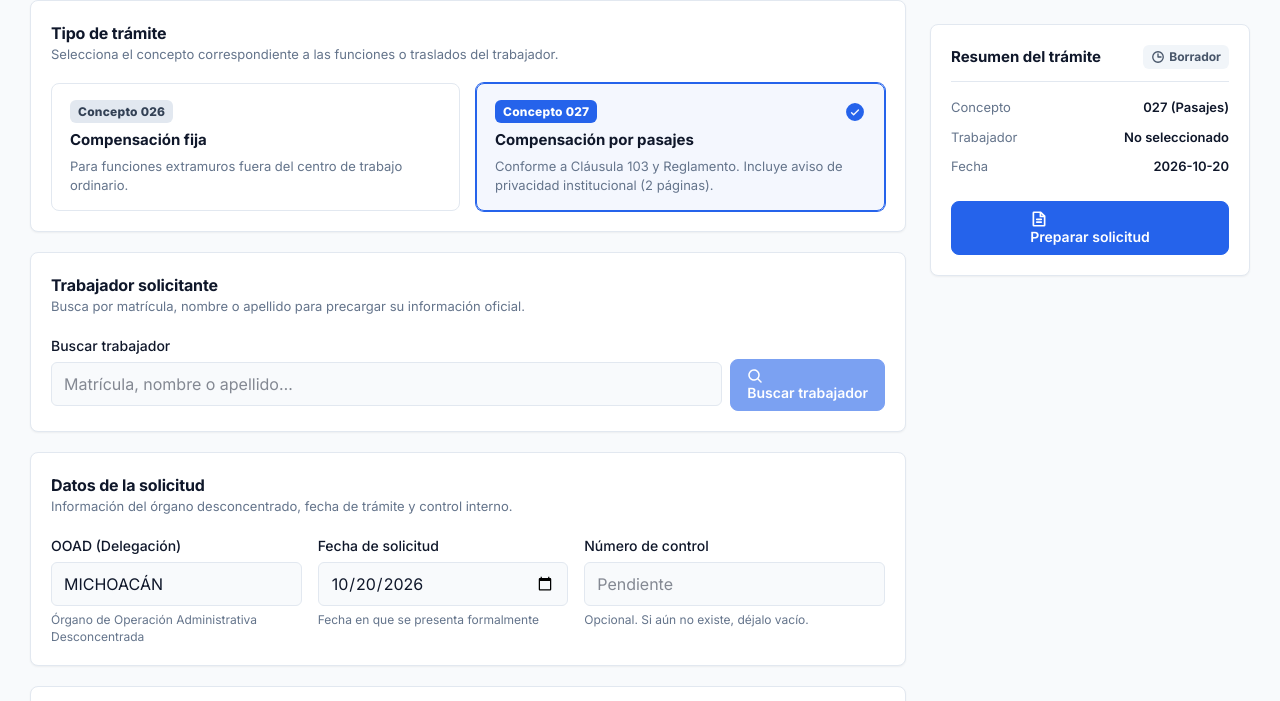
Test case: PassageWizard UI Workflow & Interactions › conmutar entre 026 y 027 NO pierde el trabajador seleccionado
The image size is (1280, 701).
Note: Buscar y seleccionar
Type "12345678" into the field with placeholder "Matrícula, nombre o apellido…" at (387, 384), box [51, 362, 722, 406]
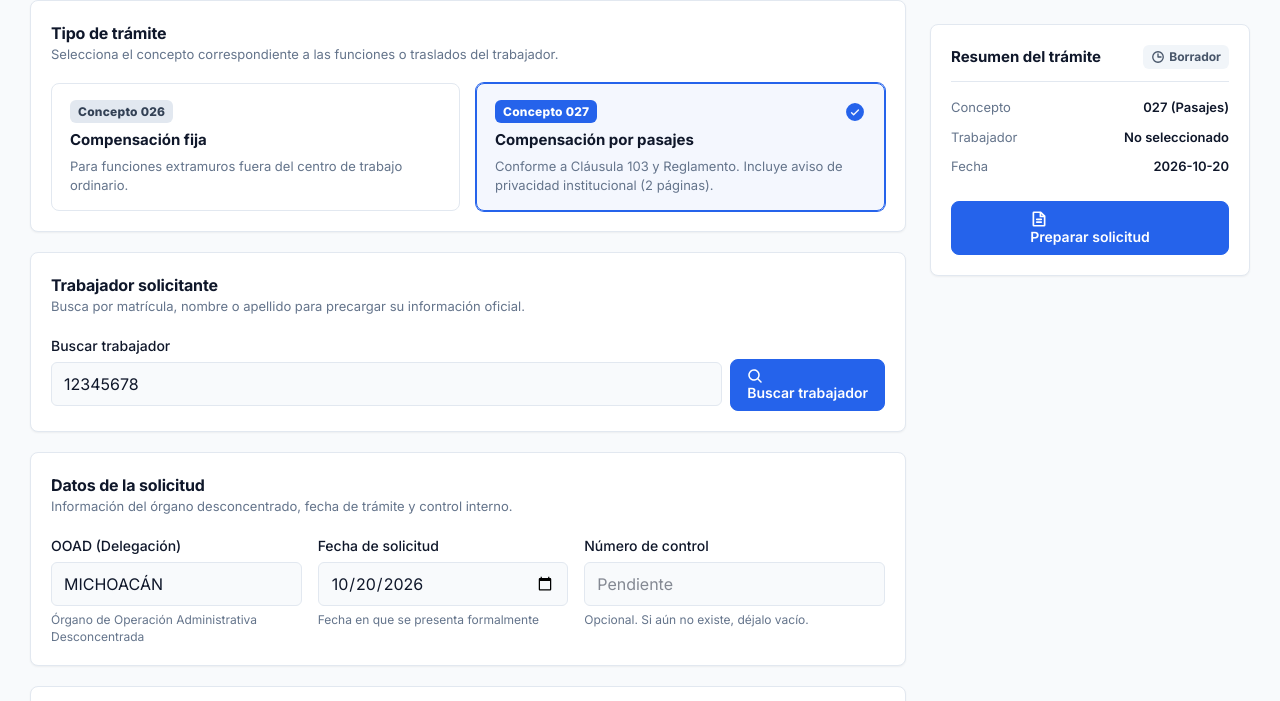
Click the button "Buscar trabajador" at (808, 385), box [730, 359, 885, 411]
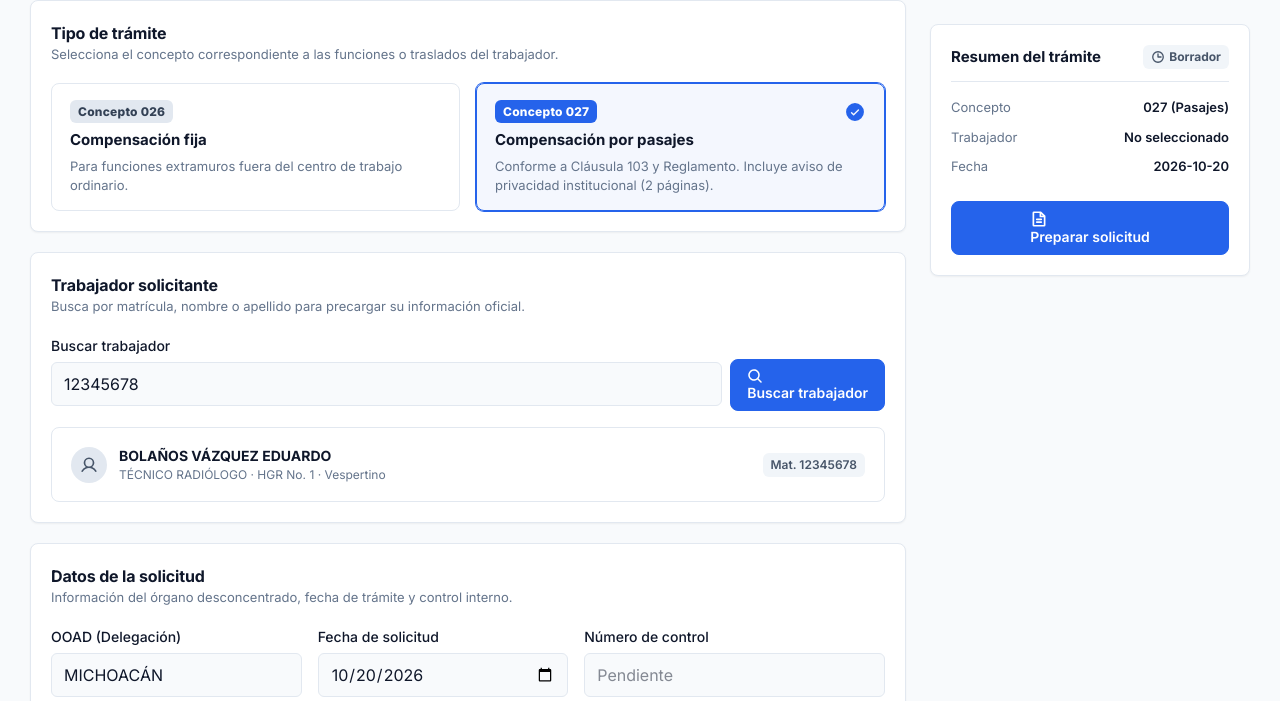
Result: the button "BOLAÑOS VÁZQUEZ" is shown
Click the button "BOLAÑOS VÁZQUEZ" at (89, 465), box [58, 434, 878, 495]
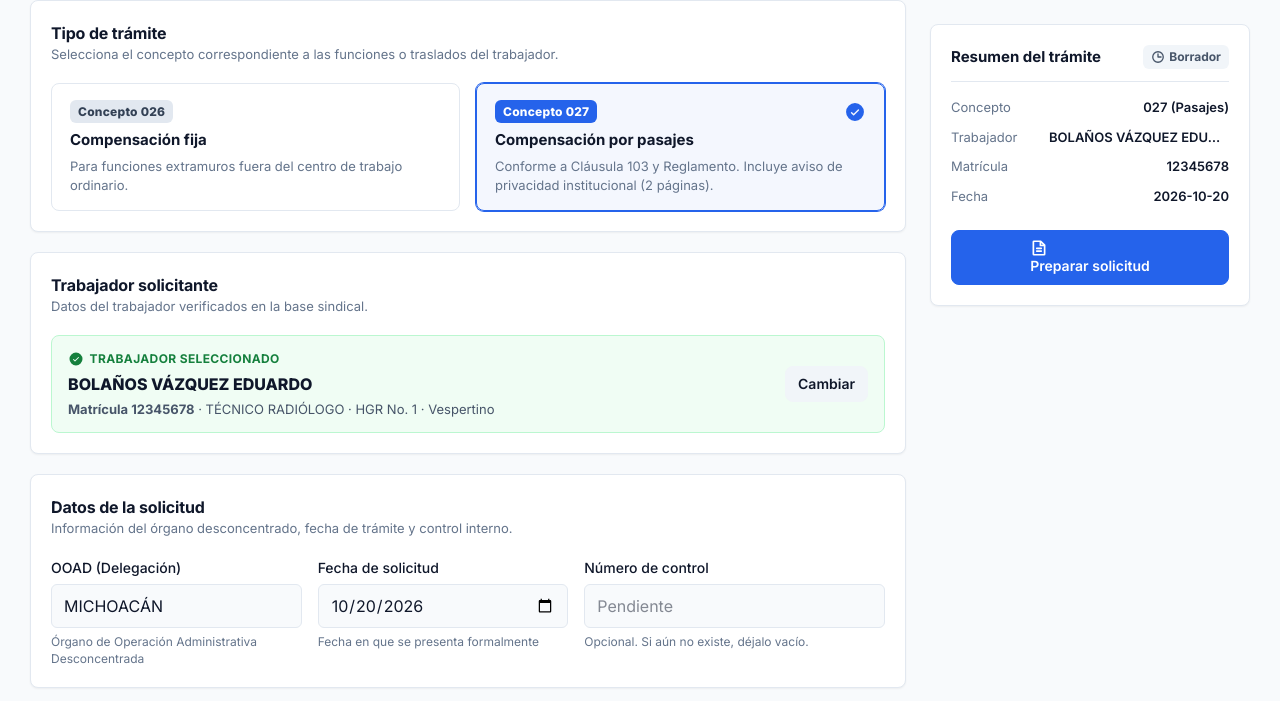
Result: the text "Trabajador seleccionado" is shown at [68, 351, 280, 367]
Note: Cambiar a 026
Click the radio button labelled "Concepto 026" at (256, 147), box [51, 83, 460, 211]
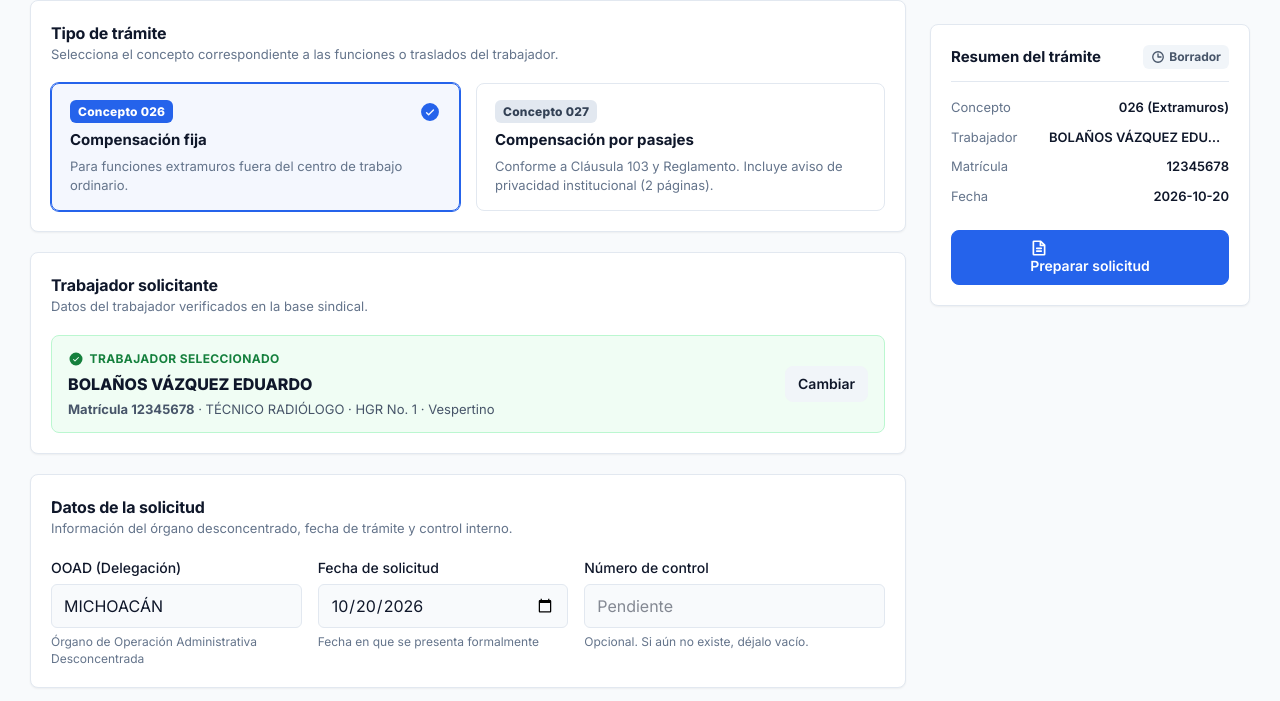
Result: the text "Trabajador seleccionado" is shown at [68, 351, 280, 367]
Result: the text "TÉCNICO RADIÓLOGO" is shown at [206, 401, 344, 417]
Note: Cambiar de vuelta a 027
Click the radio button labelled "Concepto 027" at (680, 147), box [476, 83, 885, 211]
(page scrolled)
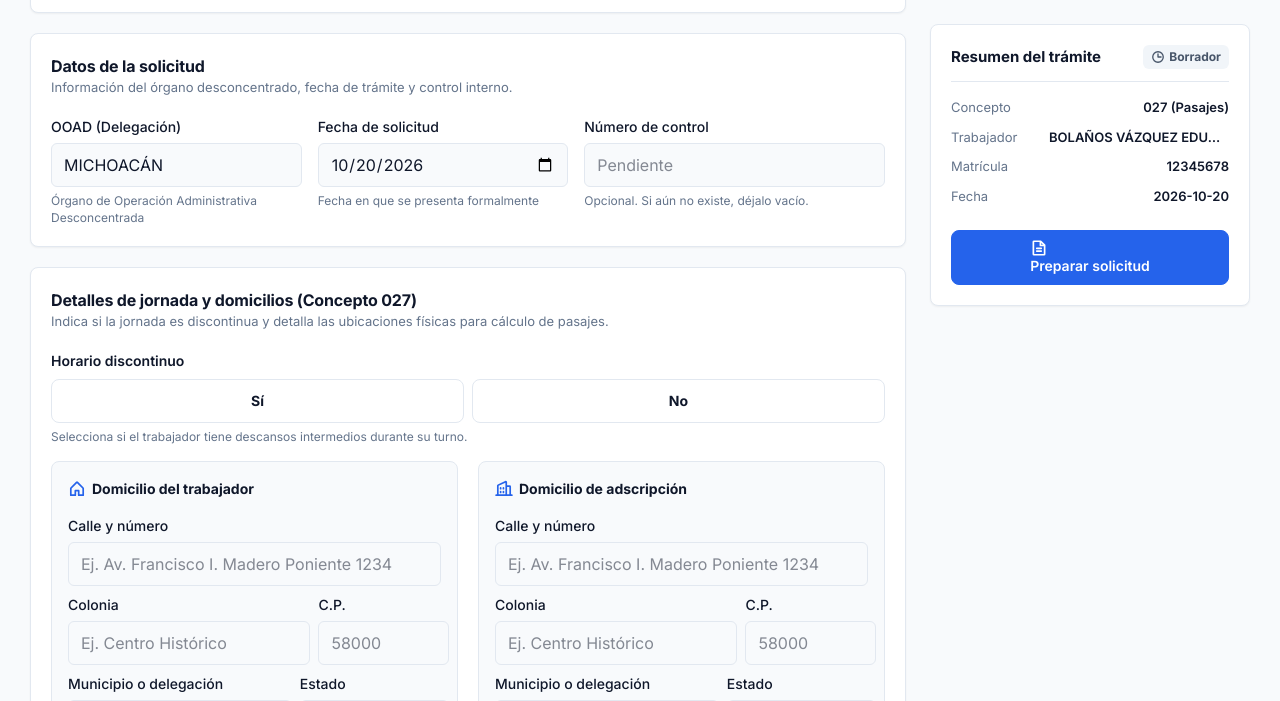
Result: the text "Horario discontinuo" is shown at [51, 352, 184, 369]
